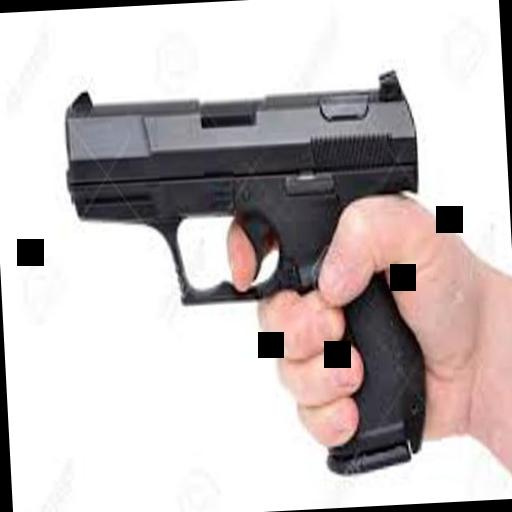Handgun: (57, 72, 436, 486)
